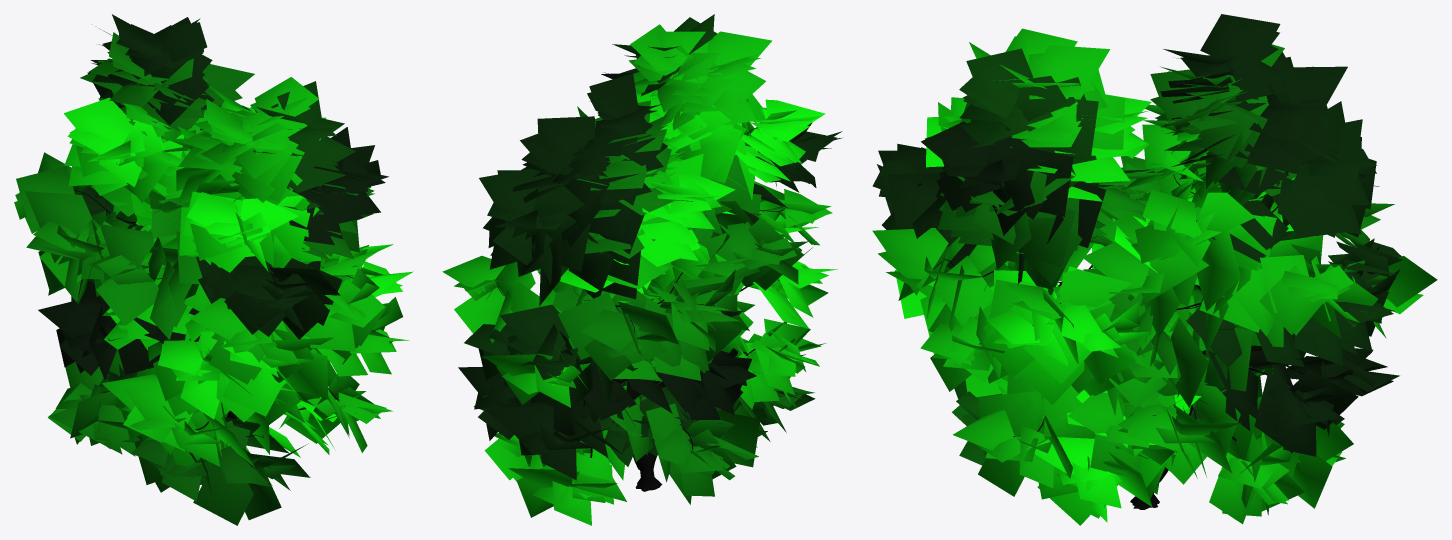
Rendered from SilverLime_7.fbx.
3 views of the same model, side by side, from view 1: azimuth 30°, elevation 25°; view 2: azimuth 150°, elevation 25°; view 3: azimuth 270°, elevation 25° (orthographic). The views are drawn at different scales.
Visible parts, largest first — view 1: SilverLime_7; view 2: SilverLime_7; view 3: SilverLime_7.
Part boxes in pixels (x1,y1,x2,y2): SilverLime_7: (14,14,413,525); SilverLime_7: (442,14,842,525); SilverLime_7: (872,14,1437,525).
Bounding box in the file's own units: 484 × 693 × 768.
